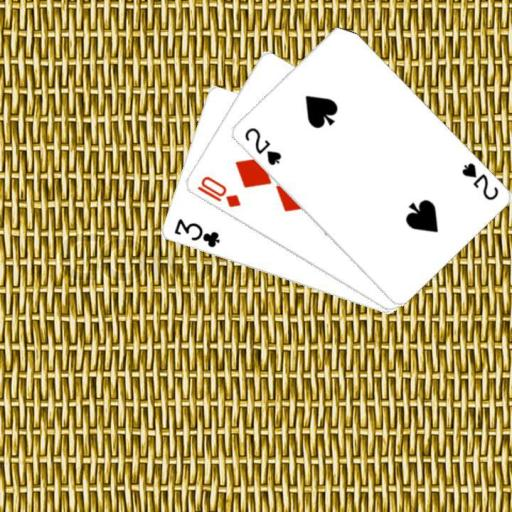10D: (193, 173, 242, 209)
2S: (240, 125, 283, 167), (458, 159, 500, 202)
3C: (170, 216, 221, 250)
